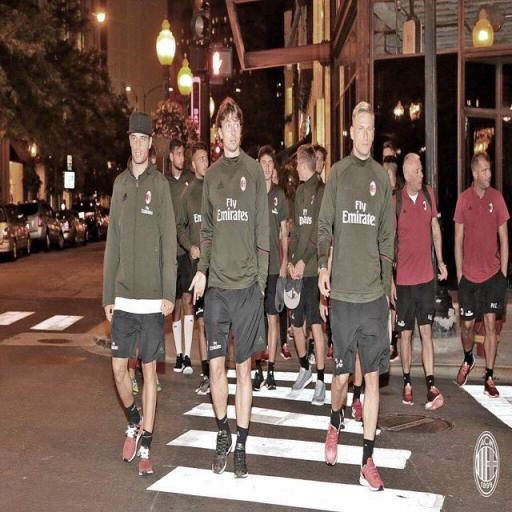Adidas: (216, 180, 226, 190), (121, 192, 128, 202)
Emirates: (341, 199, 377, 227), (216, 194, 248, 223)
